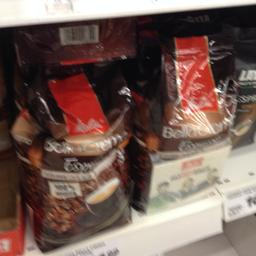coffee: (14, 68, 132, 254), (132, 42, 234, 212)
